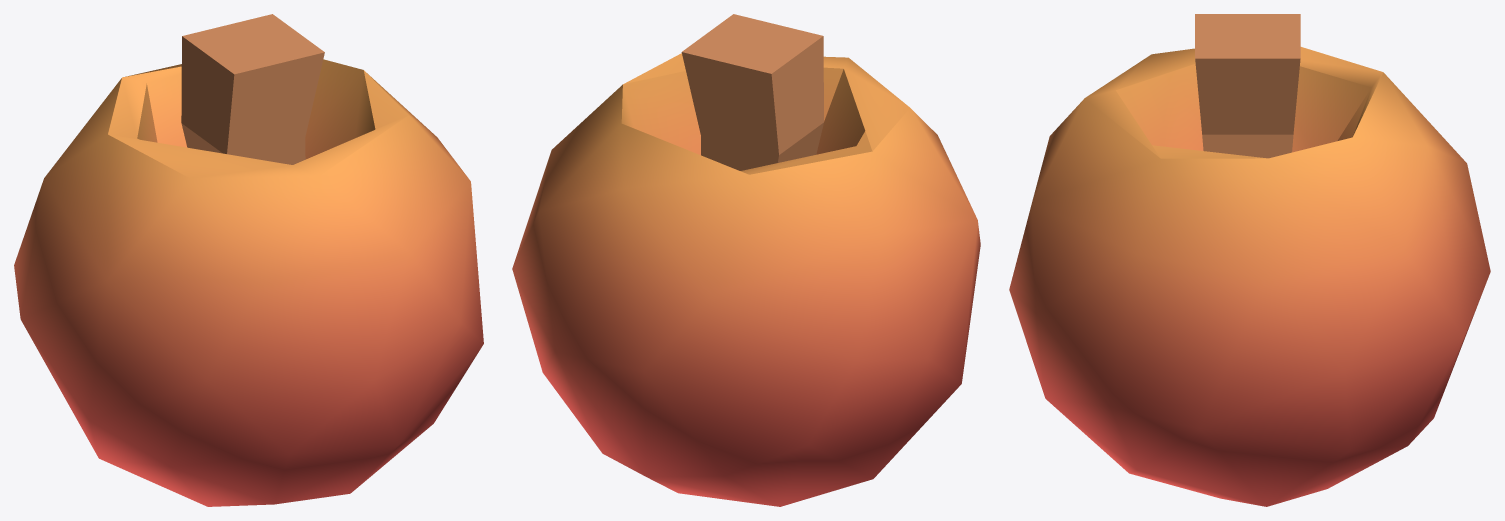
Rendered from Apple_A.fbx.
3 renders of one model, left to right at view 1: azimuth 30°, elevation 25°; view 2: azimuth 150°, elevation 25°; view 3: azimuth 270°, elevation 25°, orthographic.
Parts seen in each view (by area): view 1: Apple_A; view 2: Apple_A; view 3: Apple_A.
Part boxes in pixels (left/top/right/bottom): Apple_A: left=14, top=14, right=483, bottom=506; Apple_A: left=512, top=14, right=980, bottom=506; Apple_A: left=1009, top=14, right=1490, bottom=506.
Size of the model in its own units: 43.61 by 45.87 by 45.01.
